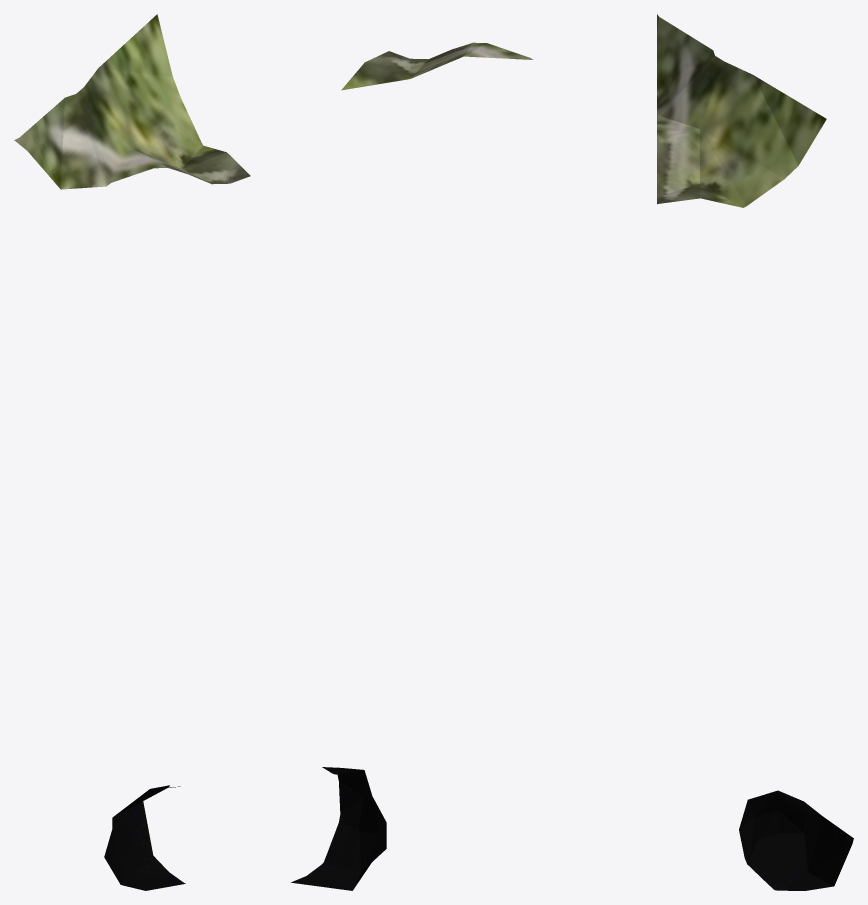
3 renders of one model, left to right at view 1: azimuth 30°, elevation 25°; view 2: azimuth 150°, elevation 25°; view 3: azimuth 270°, elevation 25°, orthographic. The views are drawn at different scales.
Bounding box in the file's own units: 0.7399 × 2.54 × 0.5865.
1 material, 1 textured.
